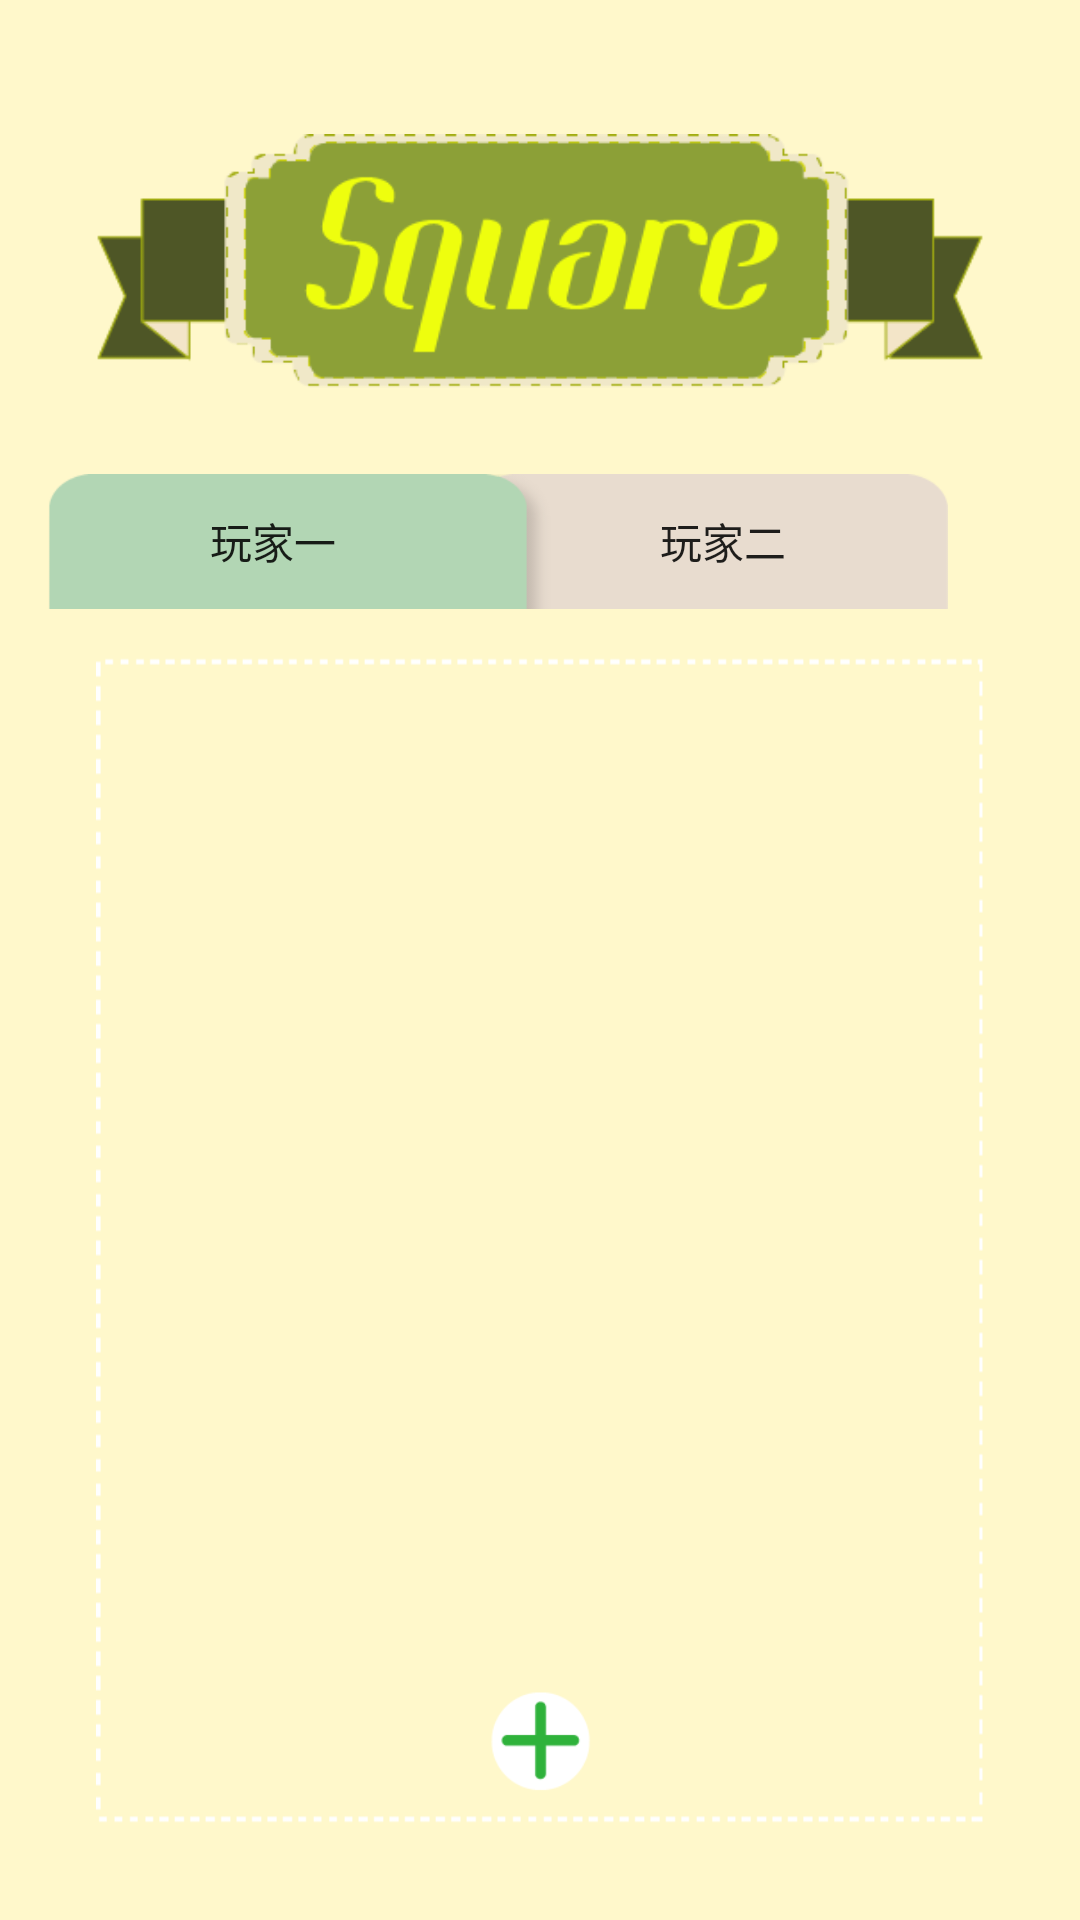

Where to tap for icons on this 1080px x 1920px app screen, as (x=x, y=y):
add: (x=541, y=1741)
